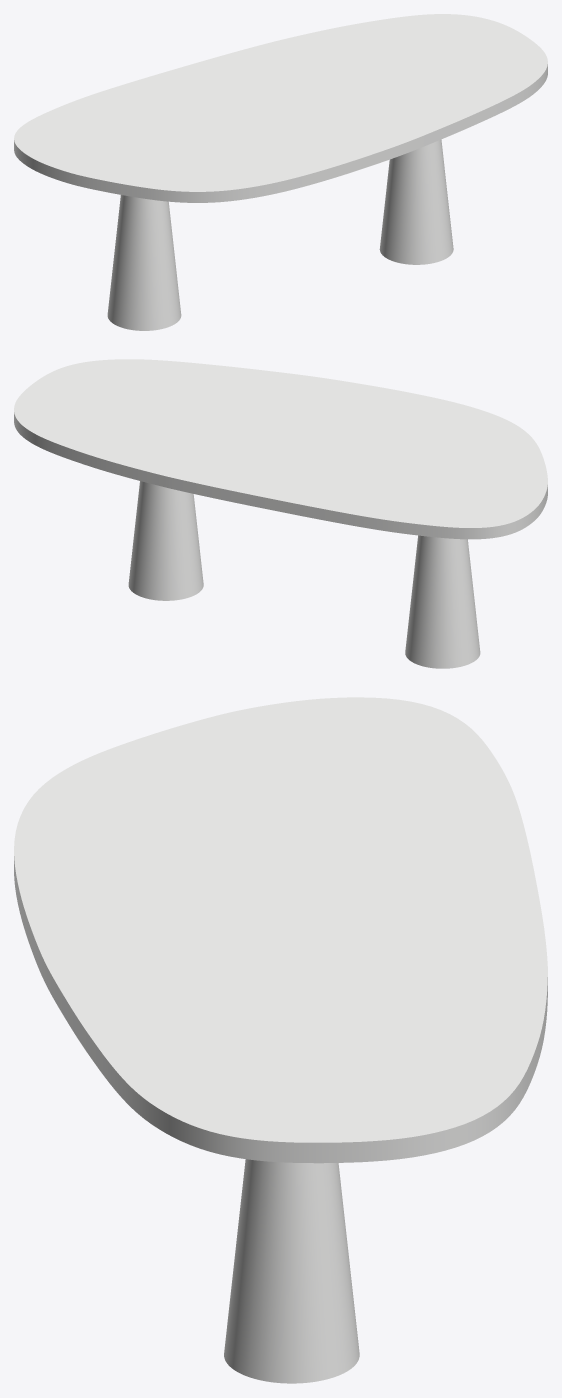
Rendered from purewhite_leaf2_standard_pebble.glb.
The picture shows the model from 3 angles, top to bottom: view 1: azimuth 30°, elevation 25°; view 2: azimuth 150°, elevation 25°; view 3: azimuth 270°, elevation 25°; orthographic projection. The views are drawn at different scales.
Parts seen in each view (by area): view 1: standard_leaf2, pebble; view 2: standard_leaf2, pebble; view 3: standard_leaf2, pebble.
Part boxes in pixels (x1,y1,x2,y2): standard_leaf2: [14, 14, 547, 202]; pebble: [107, 139, 453, 330]; standard_leaf2: [14, 359, 547, 539]; pebble: [128, 481, 480, 668]; standard_leaf2: [14, 697, 547, 1163]; pebble: [224, 1159, 359, 1383].
Bounding box in the file's own units: 7.5 × 2.52 × 3.8.
1 material, 1 textured.
